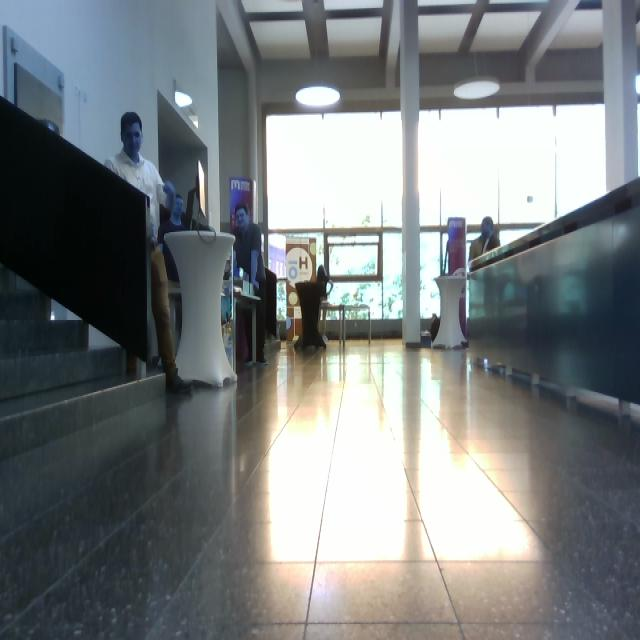light bulb: (453, 53, 500, 100), (454, 77, 500, 100), (296, 85, 341, 108), (40, 118, 60, 136), (175, 90, 193, 108), (189, 114, 199, 129), (635, 73, 640, 94)
person: (105, 112, 194, 394), (233, 202, 269, 365)
pillar: (165, 229, 238, 389), (400, 1, 422, 346)
tiled floor: (1, 336, 639, 638)
window: (265, 109, 404, 330)
